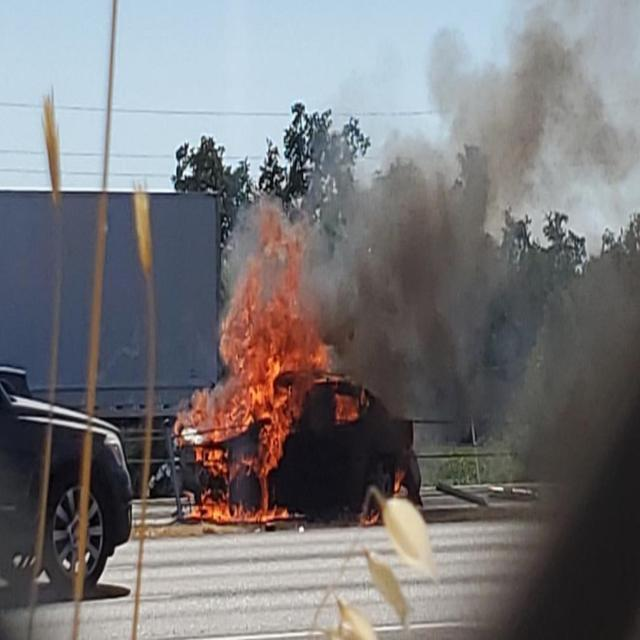Fire: (188, 204, 336, 542)
Smoke: (318, 16, 640, 480)
